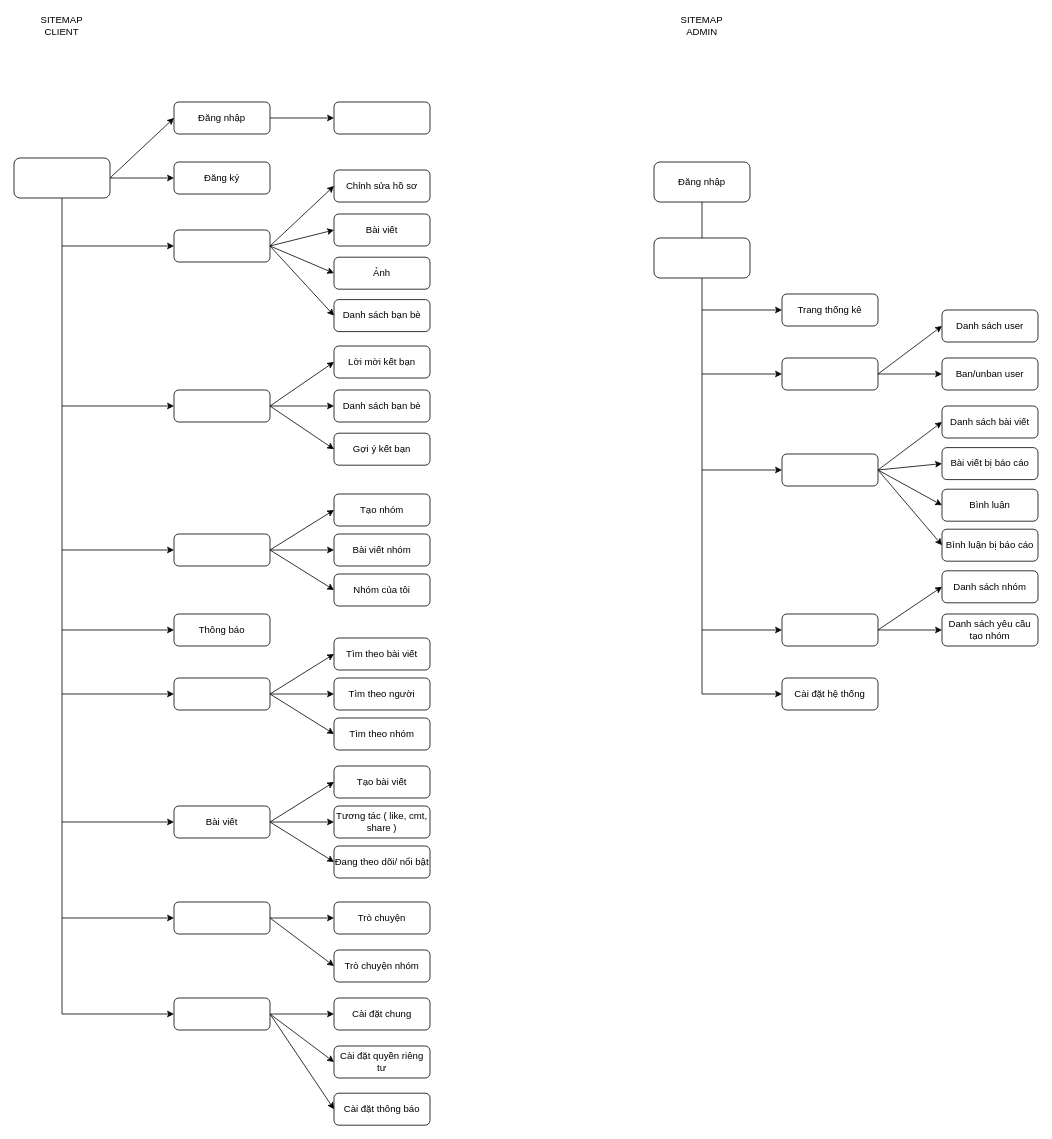
Some shapes in this 1052 by 1139 pixel diagram are drawn without their labels. Each missing label, with the box of its shape:
Bạn bè: (173, 389, 270, 422)
Cài đặt: (173, 997, 270, 1030)
Nhóm: (173, 533, 270, 566)
Nhắn tin: (173, 901, 270, 934)
Quên mật khẩu: (333, 101, 430, 134)
Quản lý nhóm: (781, 613, 878, 646)
Quản lý nội dung: (781, 453, 878, 486)
Quản lý user: (781, 357, 878, 390)
Trang chủ: (13, 157, 110, 198)
Trang cá nhân: (173, 229, 270, 262)
Trang quản trị: (653, 237, 750, 278)
Tìm kiếm: (173, 677, 270, 710)
